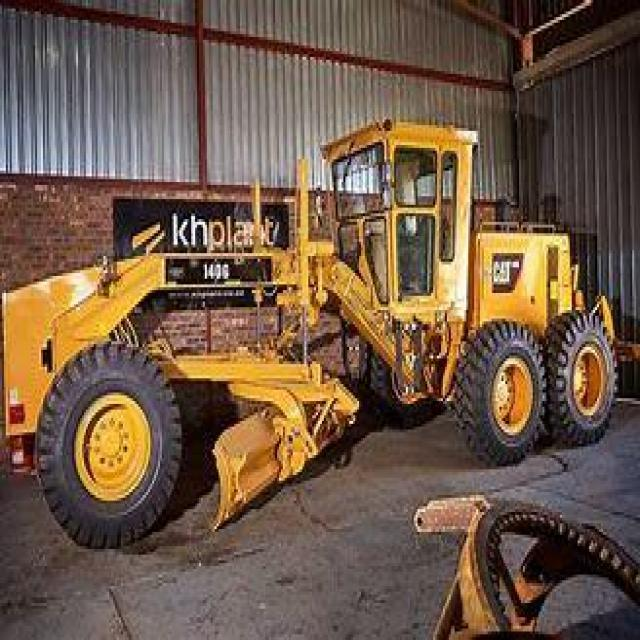Grader: (6, 94, 638, 537)
